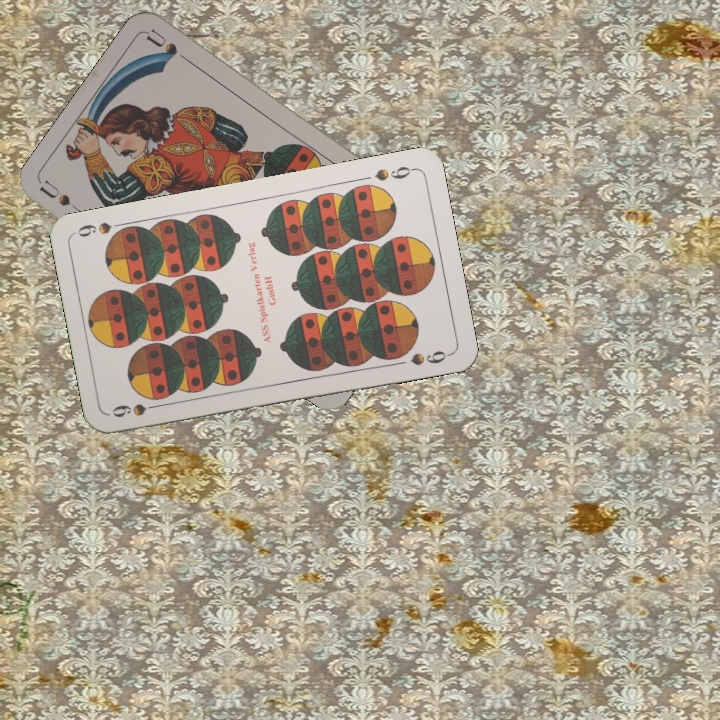S9: (108, 399, 167, 420), (370, 162, 418, 184)
SU: (37, 177, 91, 220)
